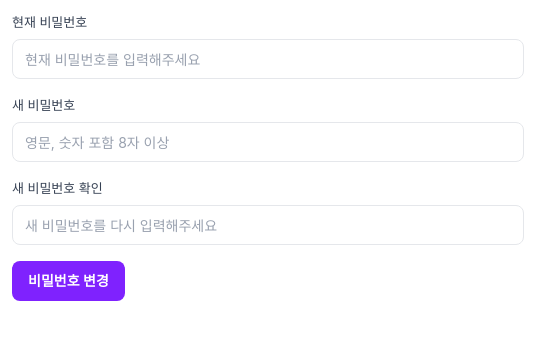
PasswordForm › 새 비밀번호가 8자 미만일 때 에러 메시지가 표시된다
Type "abc123" into the password field labelled "새 비밀번호" at (268, 142), box [12, 122, 524, 162]
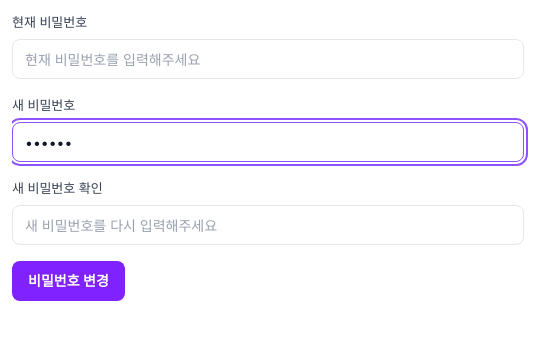
Press Tab
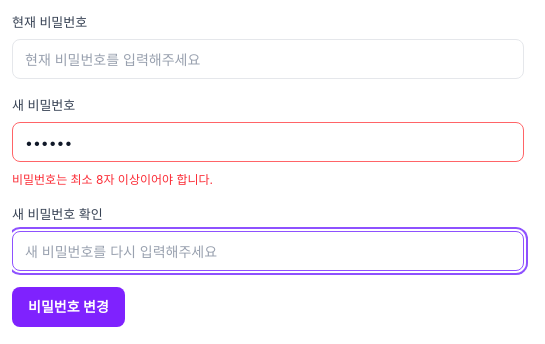
Check: the text "비밀번호는 최소 8자 이상이어야 합니다." is shown, box [12, 172, 213, 187]
